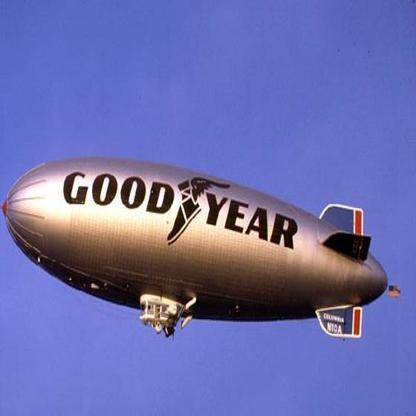Airship: (1, 154, 412, 343)
